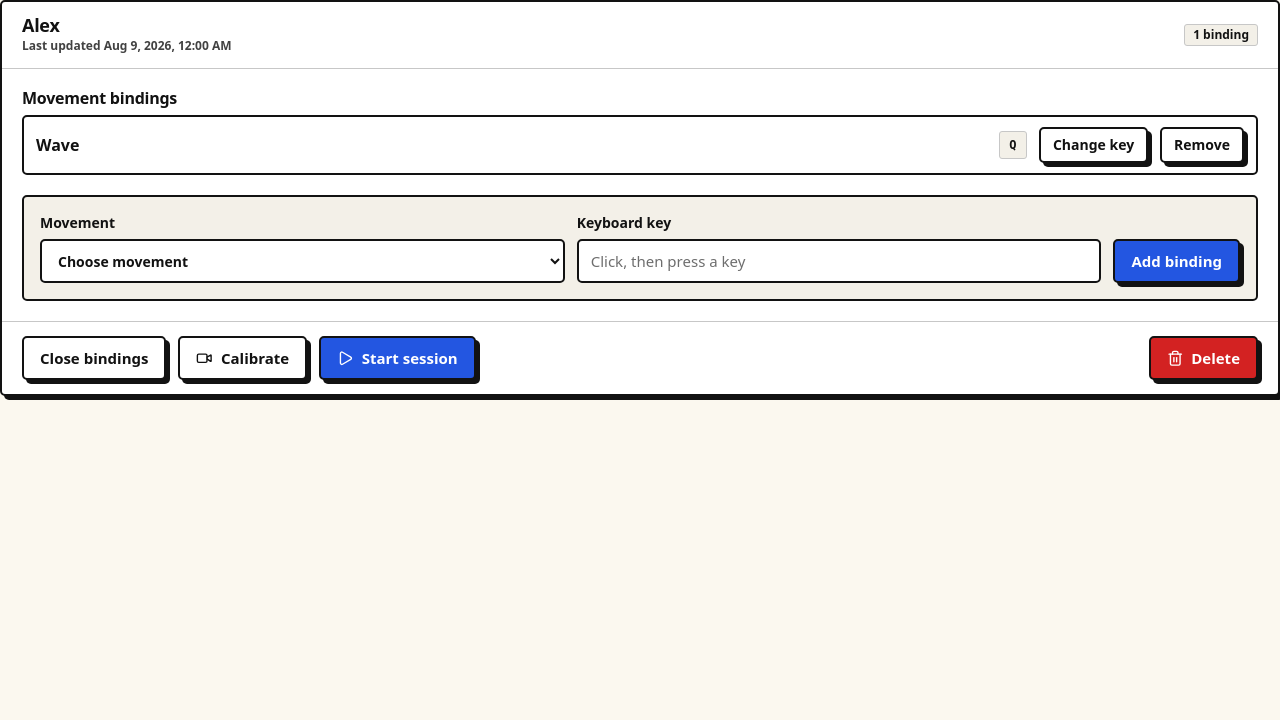
Test: key capture interactions › shows an error when a captured key is unsupported
The width and height of the screenshot is (1280, 720).
Click the button "Change key" at (1094, 145), box [1039, 127, 1148, 163]
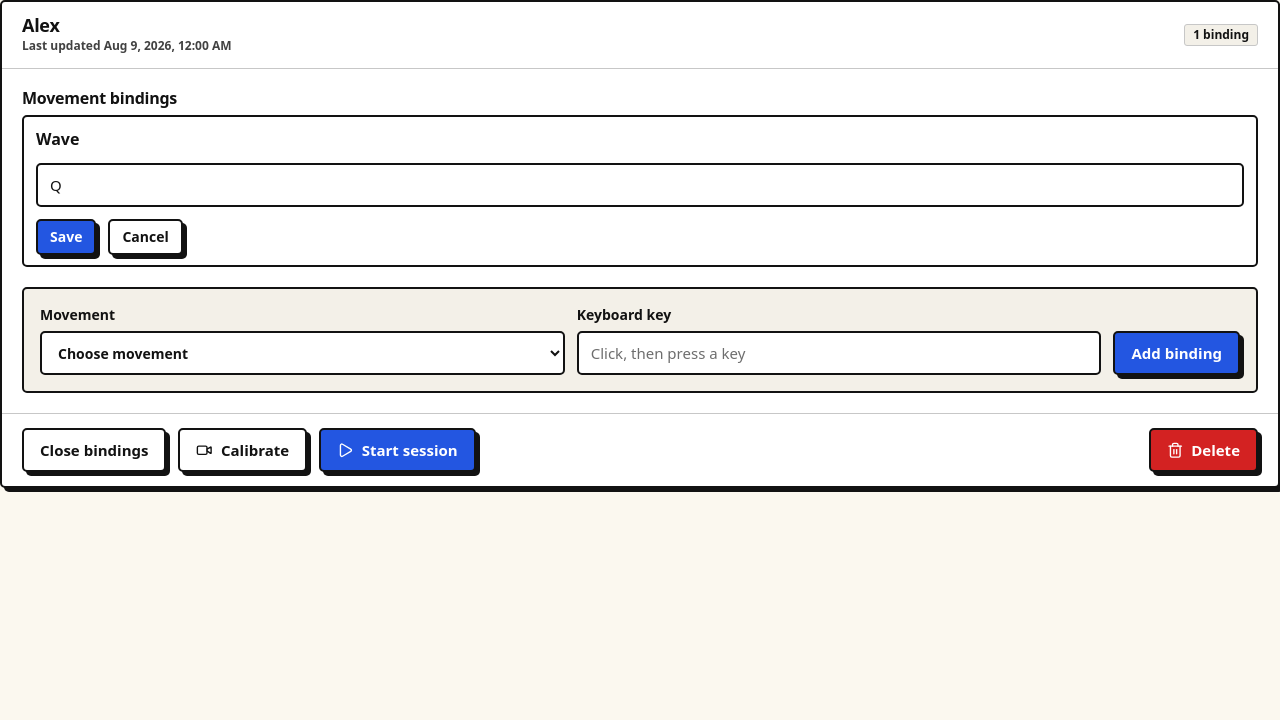
Press F13 in the field named "New key for Wave", box [36, 163, 1244, 207]
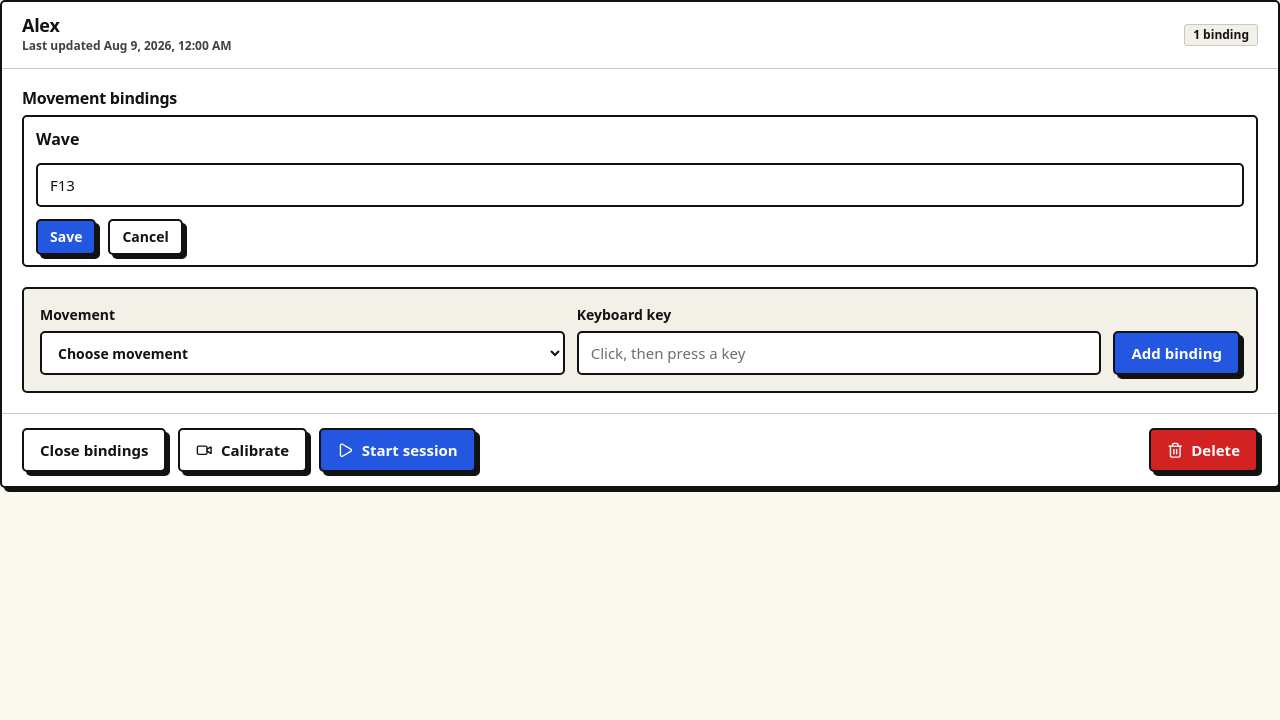
Click the button "Save" at (66, 237), box [36, 219, 96, 255]
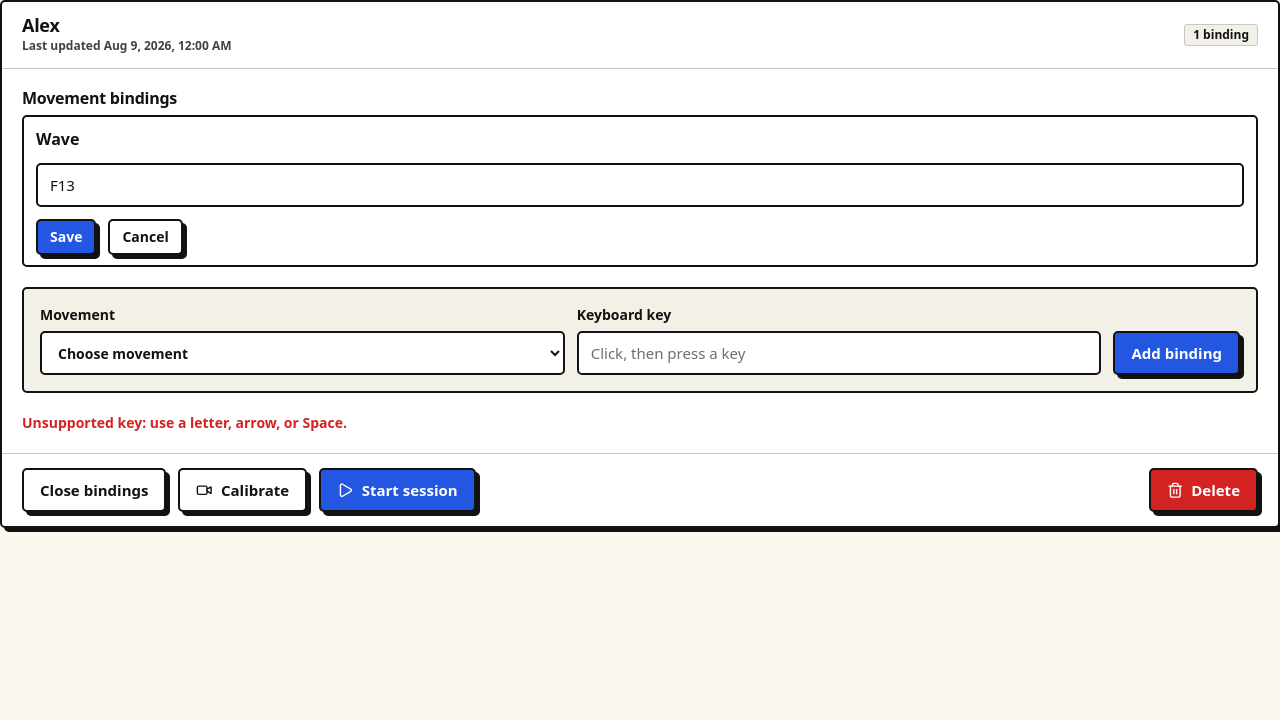
Expected: the text "Unsupported key" is shown, [22, 413, 347, 432]
